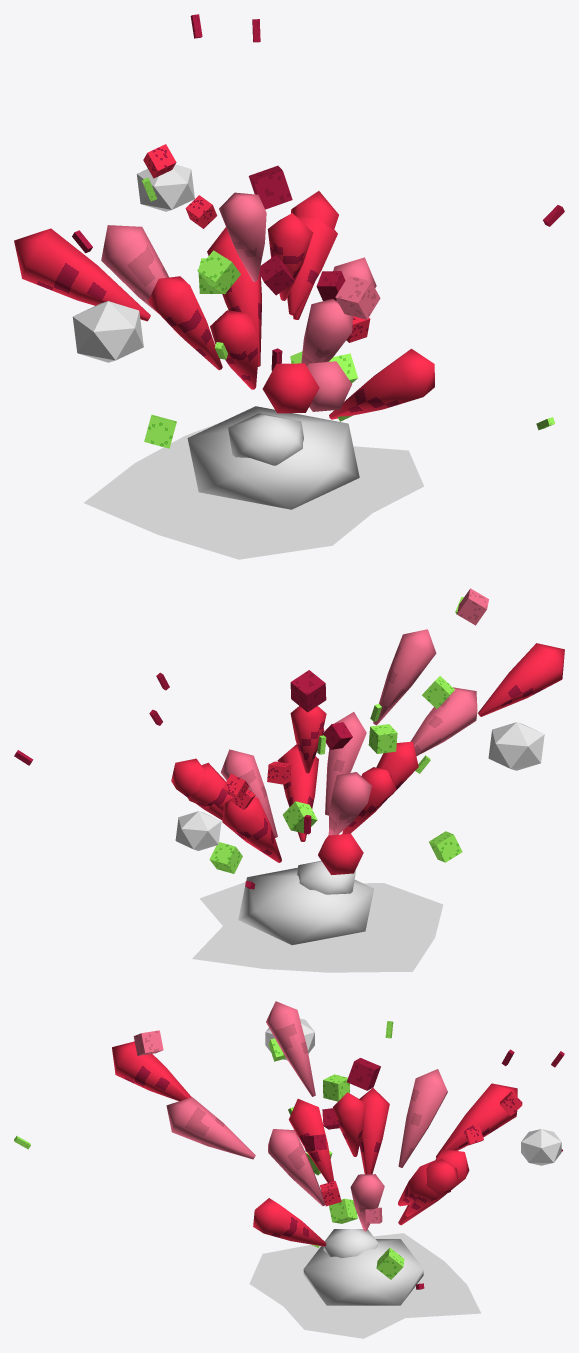
File: Blood Splat Burst.fbx
3 renders of one model, top to bottom at view 1: azimuth 30°, elevation 25°; view 2: azimuth 150°, elevation 25°; view 3: azimuth 270°, elevation 25°, orthographic. The views are drawn at different scales.
Parts seen in each view (by area): view 1: Blood Splat Burst puddle, Blood Splat Burst core, Blood Splat Burst drop 4, Blood Splat Burst crown 7, Blood Splat Burst blob 1, Blood Splat Burst crown 3, Blood Splat Burst crown 4, Blood Splat Burst core top, Blood Splat Burst drop 0, Blood Splat Burst crown 6, Blood Splat Burst crown 5, Blood Splat Burst crown 2 (+12 smaller); view 2: Blood Splat Burst puddle, Blood Splat Burst core, Blood Splat Burst drop 2, Blood Splat Burst drop 0, Blood Splat Burst drop 3, Blood Splat Burst blob 1, Blood Splat Burst crown 2, Blood Splat Burst crown 3, Blood Splat Burst crown 6, Blood Splat Burst crown 7, Blood Splat Burst drop 1, Blood Splat Burst crown 0 (+16 smaller); view 3: Blood Splat Burst puddle, Blood Splat Burst core, Blood Splat Burst drop 3, Blood Splat Burst drop 2, Blood Splat Burst crown 3, Blood Splat Burst drop 0, Blood Splat Burst drop 4, Blood Splat Burst crown 6, Blood Splat Burst crown 7, Blood Splat Burst crown 4, Blood Splat Burst crown 5, Blood Splat Burst drop 1 (+12 smaller).
Boxes of the visible parts, <box> form: Blood Splat Burst puddle: <box>84,421,424,559</box>; Blood Splat Burst core: <box>187,406,359,509</box>; Blood Splat Burst drop 4: <box>14,228,150,321</box>; Blood Splat Burst crown 7: <box>329,348,434,419</box>; Blood Splat Burst blob 1: <box>72,301,143,362</box>; Blood Splat Burst crown 3: <box>101,225,168,313</box>; Blood Splat Burst crown 4: <box>148,276,222,370</box>; Blood Splat Burst core top: <box>228,413,303,465</box>; Blood Splat Burst drop 0: <box>219,192,266,281</box>; Blood Splat Burst crown 6: <box>301,299,352,366</box>; Blood Splat Burst crown 5: <box>210,310,258,389</box>; Blood Splat Burst crown 2: <box>207,227,261,366</box>; Blood Splat Burst puddle: <box>192,882,443,972</box>; Blood Splat Burst core: <box>238,867,373,945</box>; Blood Splat Burst drop 2: <box>478,643,564,716</box>; Blood Splat Burst drop 0: <box>373,629,436,725</box>; Blood Splat Burst drop 3: <box>410,687,477,756</box>; Blood Splat Burst blob 1: <box>488,722,544,770</box>; Blood Splat Burst crown 2: <box>222,797,281,862</box>; Blood Splat Burst crown 3: <box>328,772,371,835</box>; Blood Splat Burst crown 6: <box>325,712,366,815</box>; Blood Splat Burst crown 7: <box>277,744,318,841</box>; Blood Splat Burst drop 1: <box>290,706,326,773</box>; Blood Splat Burst crown 0: <box>220,749,277,837</box>; Blood Splat Burst puddle: <box>249,1233,481,1338</box>; Blood Splat Burst core: <box>303,1239,423,1305</box>; Blood Splat Burst drop 3: <box>166,1097,255,1159</box>; Blood Splat Burst drop 2: <box>112,1041,191,1101</box>; Blood Splat Burst crown 3: <box>398,1069,447,1167</box>; Blood Splat Burst drop 0: <box>266,1001,315,1096</box>; Blood Splat Burst drop 4: <box>436,1083,517,1157</box>; Blood Splat Burst crown 6: <box>268,1129,325,1206</box>; Blood Splat Burst crown 7: <box>253,1198,326,1246</box>; Blood Splat Burst crown 4: <box>359,1088,389,1174</box>; Blood Splat Burst crown 5: <box>288,1099,334,1182</box>; Blood Splat Burst drop 1: <box>332,1092,365,1156</box>.
Bounding box in the file's own units: 0.7563 × 0.4779 × 0.8603.
9 materials, 6 textured.
